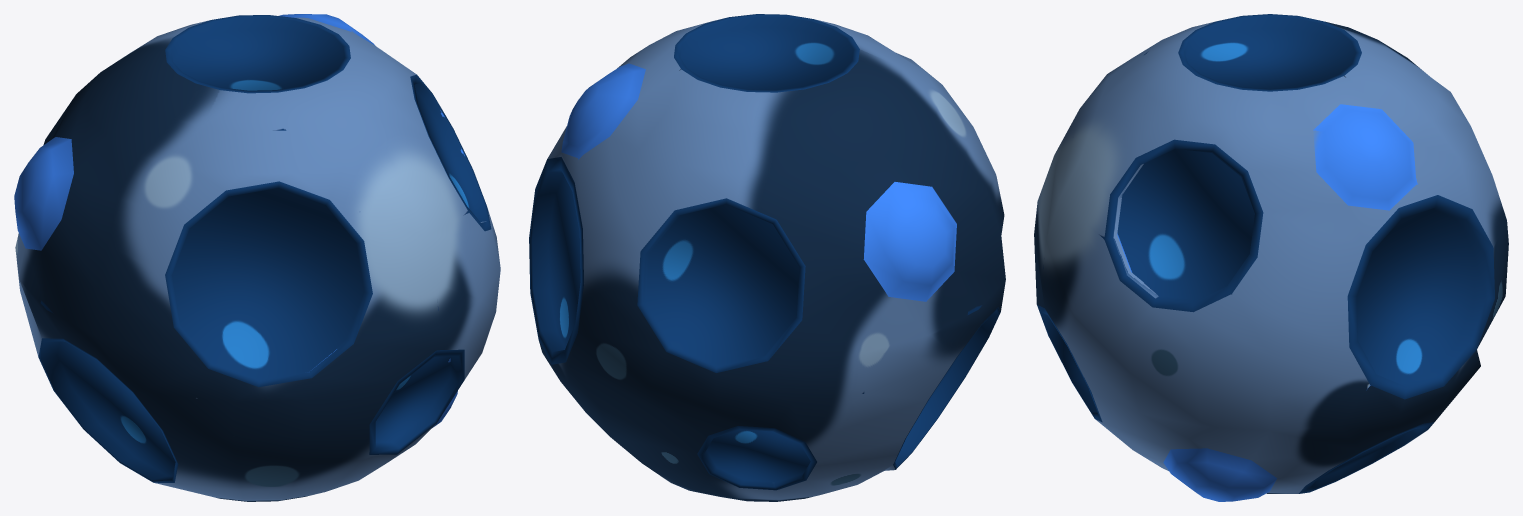
Rendered from EsporaEnemiga_atack.fbx.
The picture shows the model from 3 angles, left to right: view 1: azimuth 30°, elevation 25°; view 2: azimuth 150°, elevation 25°; view 3: azimuth 270°, elevation 25°; orthographic projection.
Parts seen in each view (by area): view 1: Esfera; view 2: Esfera; view 3: Esfera.
Boxes of the visible parts, x1,y1,x2,y2 form: Esfera: (14,14,500,501); Esfera: (529,14,1005,501); Esfera: (1034,14,1508,501).
Bounding box in the file's own units: 200 × 190 × 198.
Materials: 1 (1 with a texture image).
